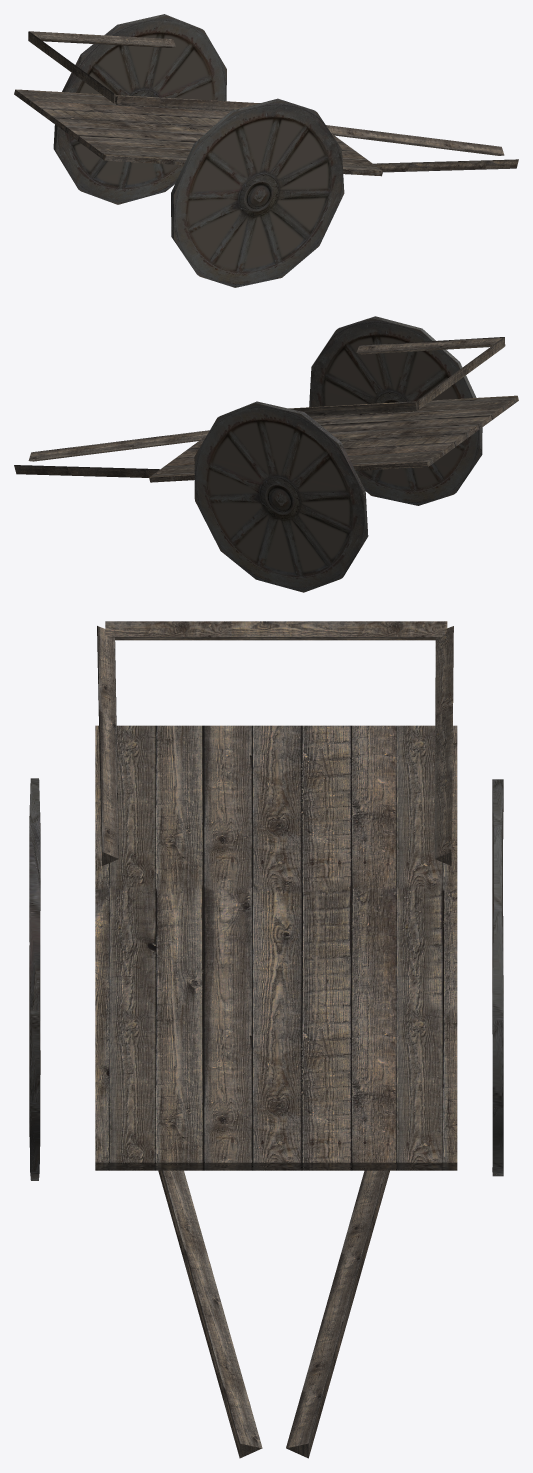
The model's file is Haywagon_LOD03.fbx.
3 views of the same model, one above another, from view 1: azimuth 30°, elevation 25°; view 2: azimuth 150°, elevation 25°; view 3: azimuth 270°, elevation 25° (orthographic). The views are drawn at different scales.
Parts seen in each view (by area): view 1: Mesh Object; view 2: Mesh Object; view 3: Mesh Object.
Boxes of the visible parts, x1,y1,x2,y2 form: Mesh Object: (14, 14, 518, 287); Mesh Object: (14, 316, 518, 592); Mesh Object: (29, 621, 503, 1458).
Bounding box in the file's own units: 2.73 × 1.2 × 1.24.
